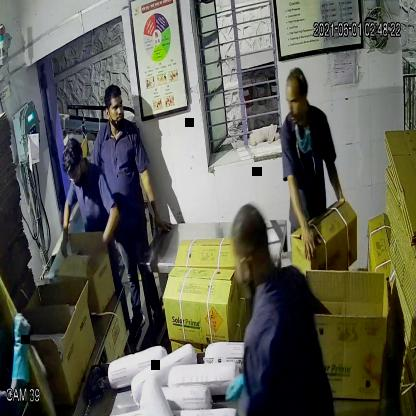goggles: (62, 164, 86, 185)
no_goggles: (280, 90, 310, 113), (102, 95, 129, 115)
